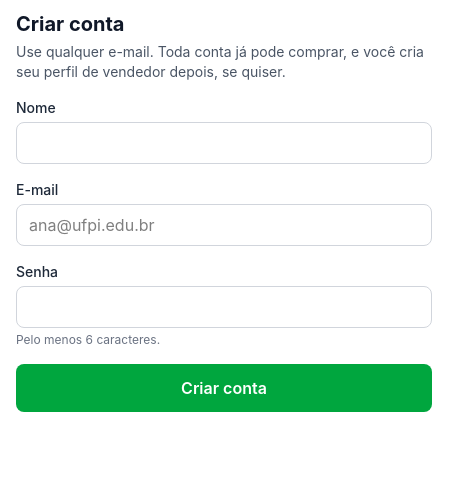
CadastroPage › mostra os erros de cada campo e não cria a conta
Step 1. Click the button "Criar conta" → (224,388), box [16, 364, 432, 412]
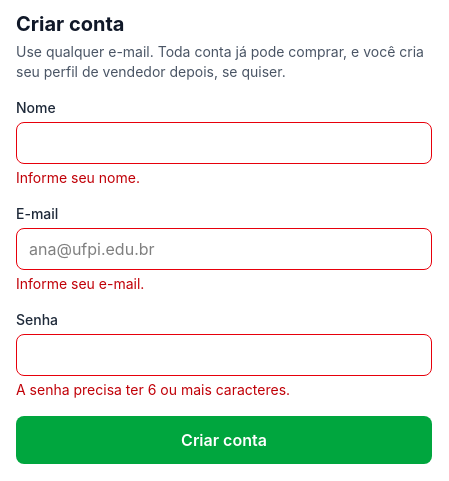
Now the text "Informe seu nome." is shown, box [16, 169, 140, 186]
Now the text "Informe seu e-mail." is shown, box [16, 275, 144, 292]
Now the text "A senha precisa ter 6 ou mais caracteres." is shown, box [16, 381, 290, 398]
